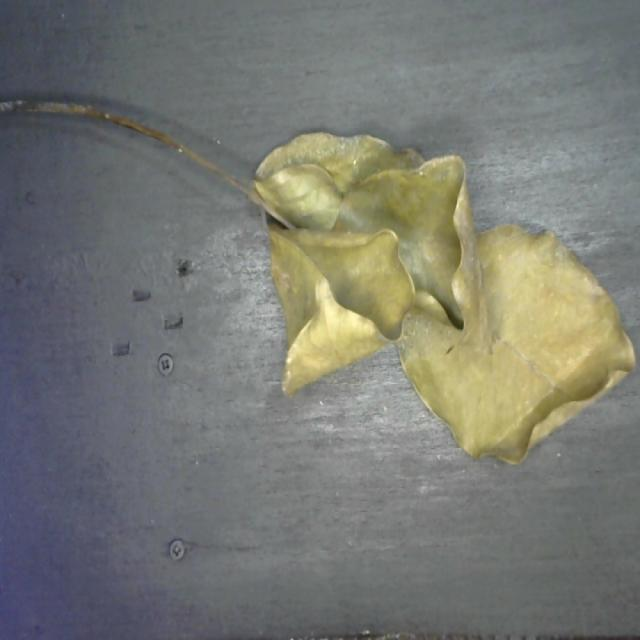biodegradable: (251, 123, 640, 470)
